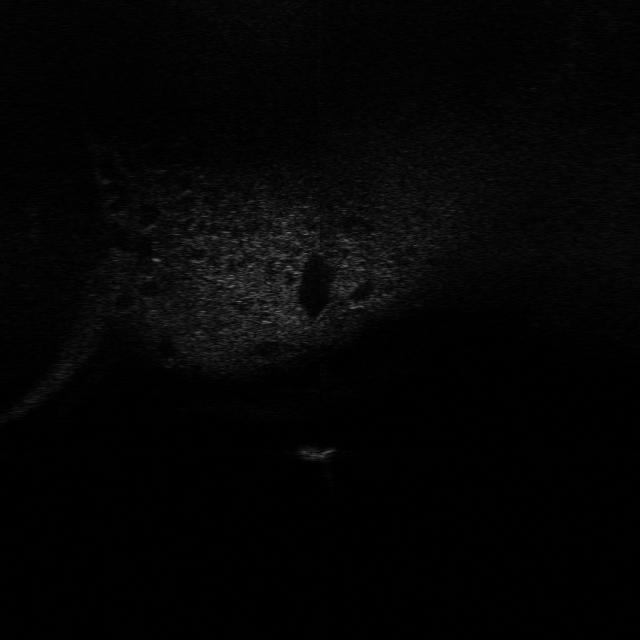cube: (292, 441, 342, 465)
